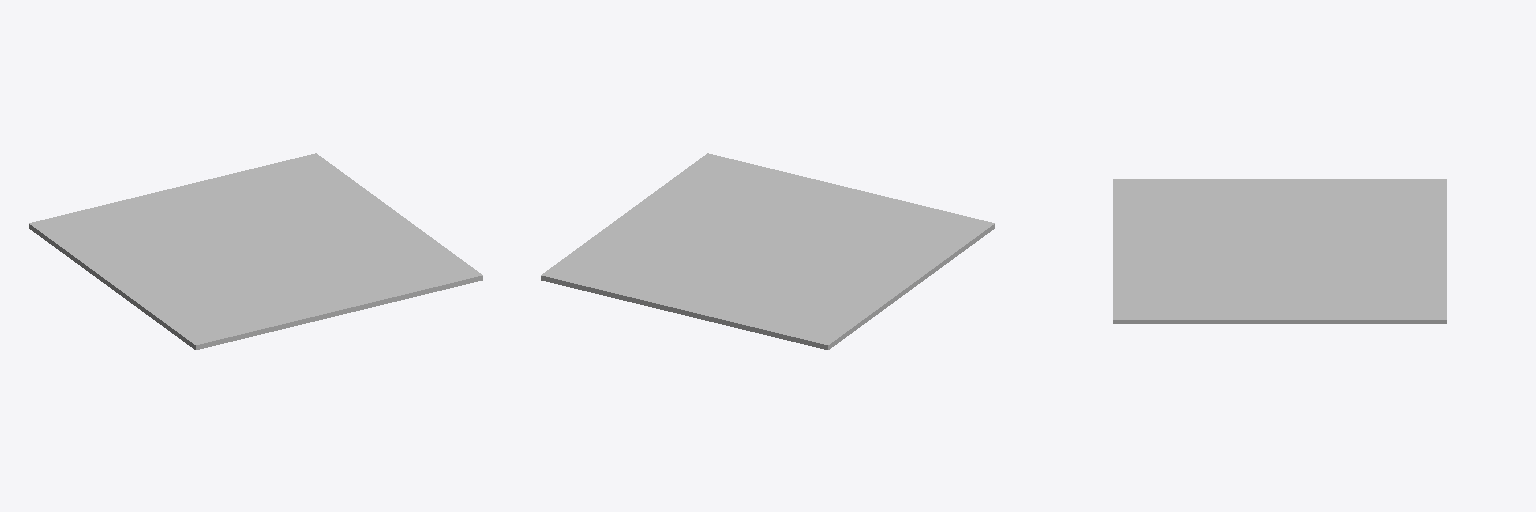
The model's file is roof.obj.
3 views of the same model, side by side, from view 1: azimuth 30°, elevation 25°; view 2: azimuth 150°, elevation 25°; view 3: azimuth 270°, elevation 25° (orthographic).
Parts seen in each view (by area): view 1: ceiling_Cube.005; view 2: ceiling_Cube.005; view 3: ceiling_Cube.005.
Boxes of the visible parts, box(x1,y1,x2,y2) form: ceiling_Cube.005: box(29, 153, 482, 349); ceiling_Cube.005: box(541, 153, 994, 349); ceiling_Cube.005: box(1113, 179, 1446, 323).
Size of the model in its own units: 11.17 by 0.4943 by 11.23.